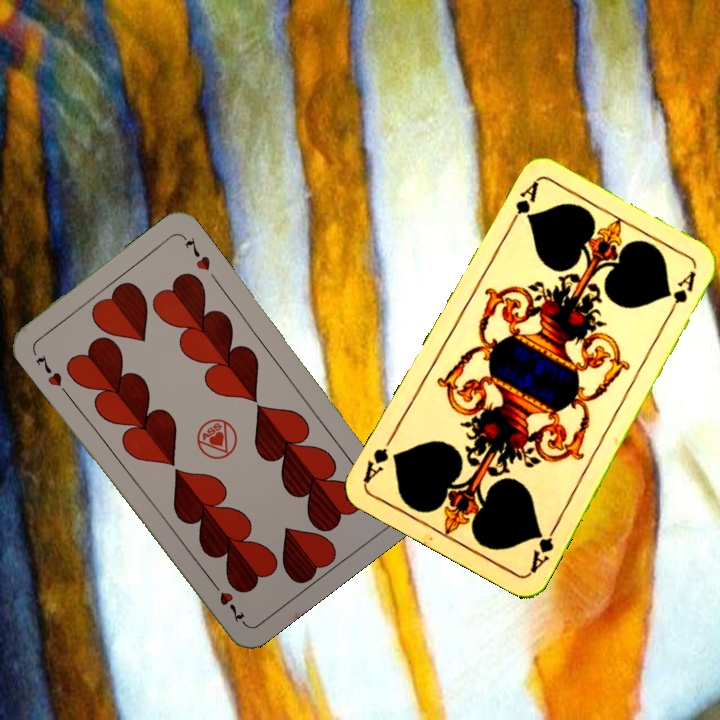GA: (504, 177, 541, 231), (525, 520, 560, 576)
H7: (32, 351, 65, 389)
